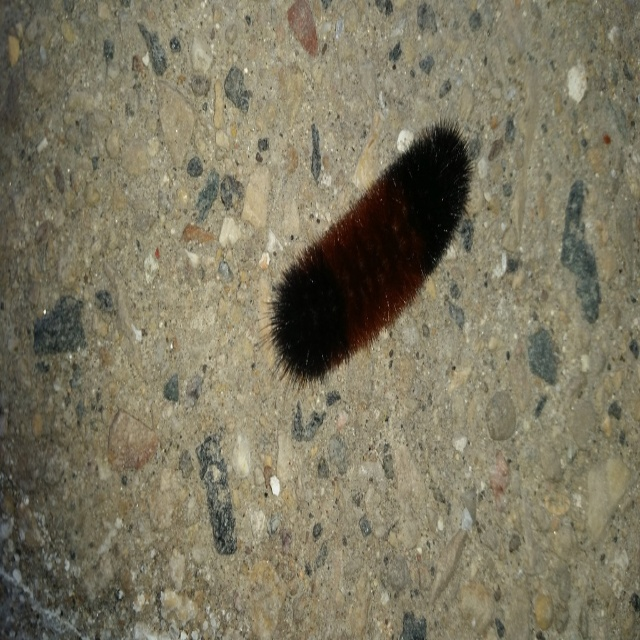Caterpillar: (260, 115, 476, 393)
